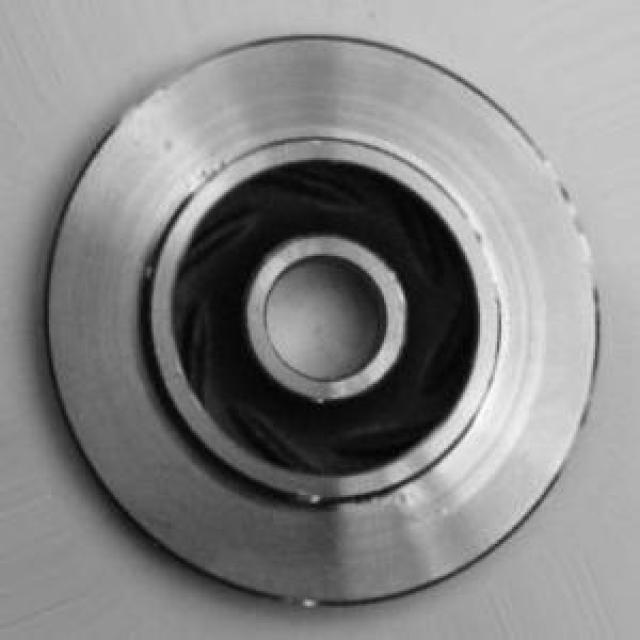Defect: (290, 477, 337, 517)
